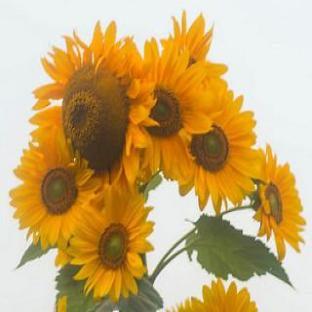sunflower: (10, 126, 100, 250), (66, 186, 154, 303), (179, 88, 259, 214)
